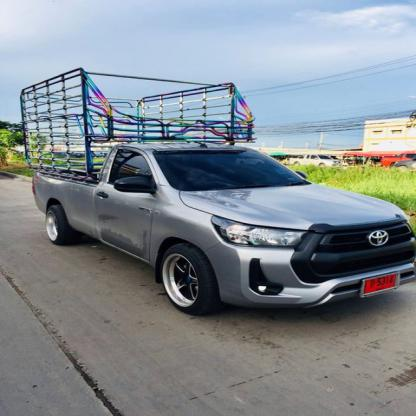Tire: (151, 240, 223, 317), (38, 201, 97, 246)
Wheel hub: (163, 254, 199, 307), (45, 211, 59, 241)
